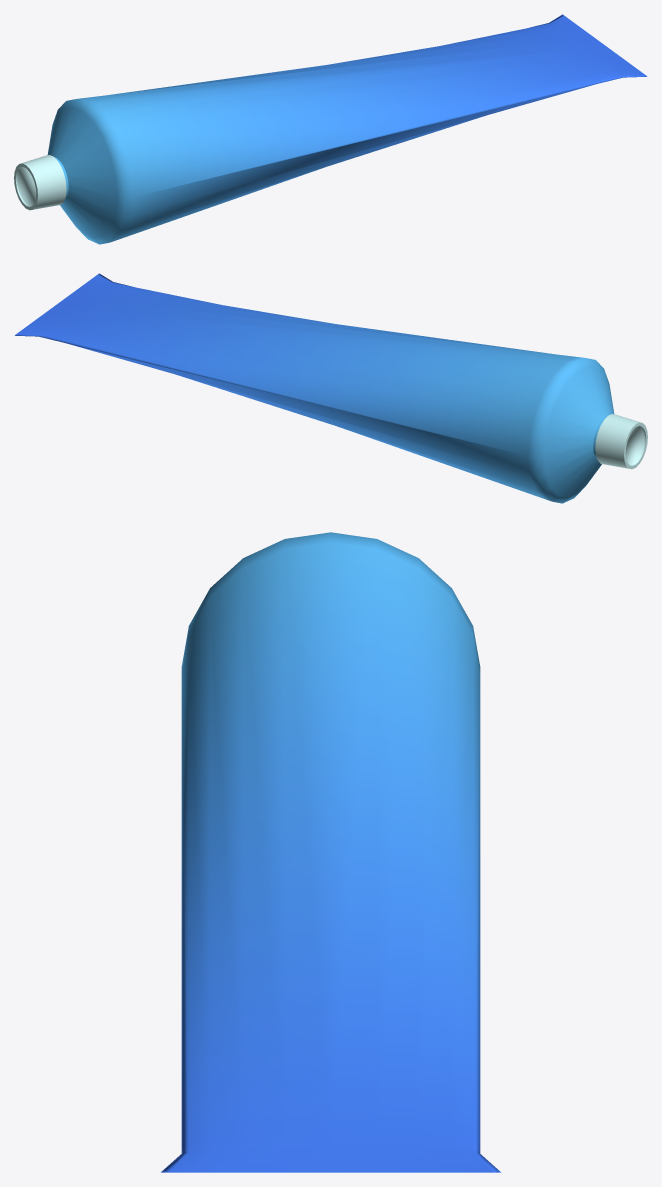
The model's file is toothpaste_blue.fbx.
3 renders of one model, top to bottom at view 1: azimuth 30°, elevation 25°; view 2: azimuth 150°, elevation 25°; view 3: azimuth 270°, elevation 25°, orthographic. The views are drawn at different scales.
Parts seen in each view (by area): view 1: toothpaste_blue; view 2: toothpaste_blue; view 3: toothpaste_blue.
Part boxes in pixels (<box>): toothpaste_blue: <box>14,14,647,244</box>; toothpaste_blue: <box>14,273,647,503</box>; toothpaste_blue: <box>161,532,500,1172</box>.
Bounding box in the file's own units: 221 × 49.33 × 56.31.
